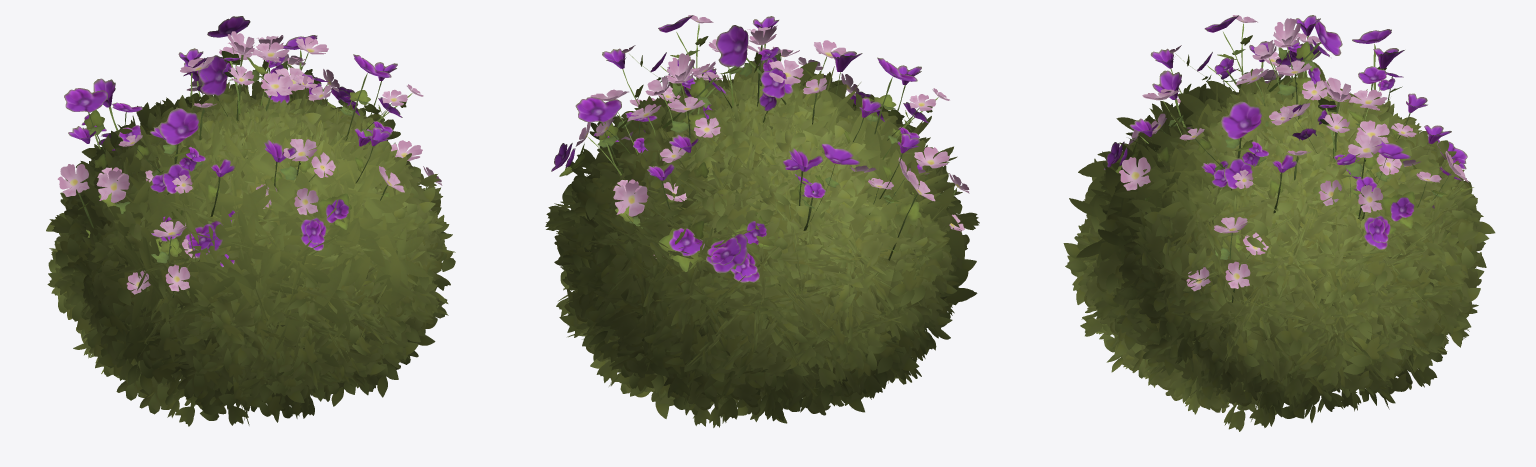
File: Bush1.fbx
The picture shows the model from 3 angles, left to right: view 1: azimuth 30°, elevation 25°; view 2: azimuth 150°, elevation 25°; view 3: azimuth 270°, elevation 25°; orthographic projection. The views are drawn at different scales.
Visible parts, largest first — view 1: Leaf.001, SM_Bush_04_LOD0.002; view 2: Leaf.001, SM_Bush_04_LOD0.002; view 3: Leaf.001, SM_Bush_04_LOD0.002.
Boxes of the visible parts, x1,y1,x2,y2 form: Leaf.001: (46, 80, 455, 426); SM_Bush_04_LOD0.002: (57, 16, 442, 315); Leaf.001: (545, 61, 979, 427); SM_Bush_04_LOD0.002: (551, 15, 969, 282); Leaf.001: (1063, 62, 1495, 431); SM_Bush_04_LOD0.002: (1104, 15, 1468, 302).
Size of the model in its own units: 409 by 369 by 420.
